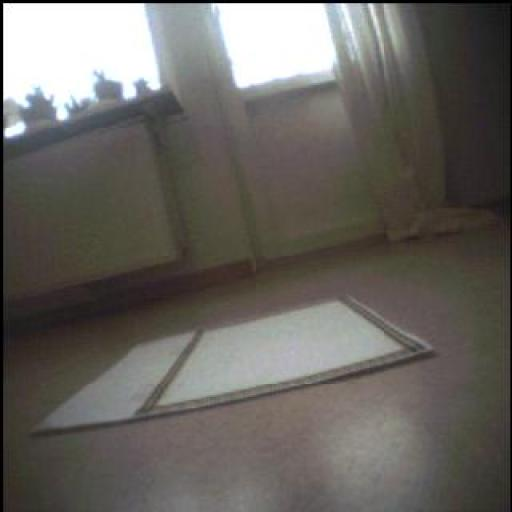Pad: (35, 299, 433, 435)
